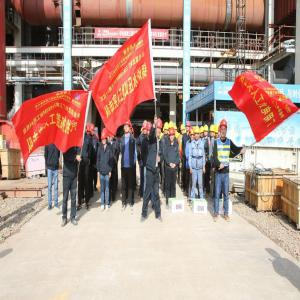red: (155, 119, 163, 138), (221, 120, 228, 139), (125, 120, 132, 135), (102, 131, 108, 145), (148, 122, 153, 137), (170, 129, 175, 143), (143, 123, 148, 136), (186, 122, 191, 133)
yellow: (195, 127, 201, 141), (165, 122, 170, 136), (200, 126, 205, 139), (205, 125, 210, 137), (210, 126, 215, 138), (215, 125, 219, 139), (181, 125, 186, 135), (176, 133, 180, 144), (191, 131, 195, 142), (175, 126, 178, 135)
